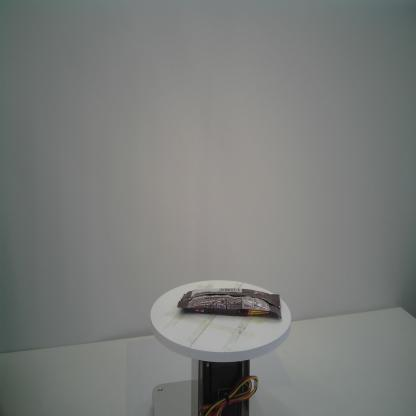Chocolate: (178, 285, 283, 322)
